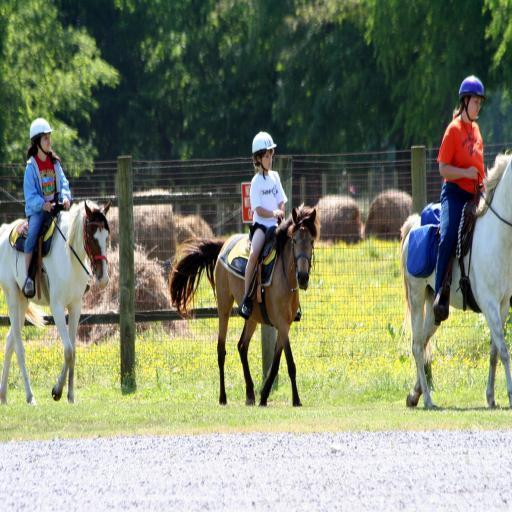horse: (169, 202, 319, 408), (397, 150, 512, 408), (0, 198, 111, 404)
